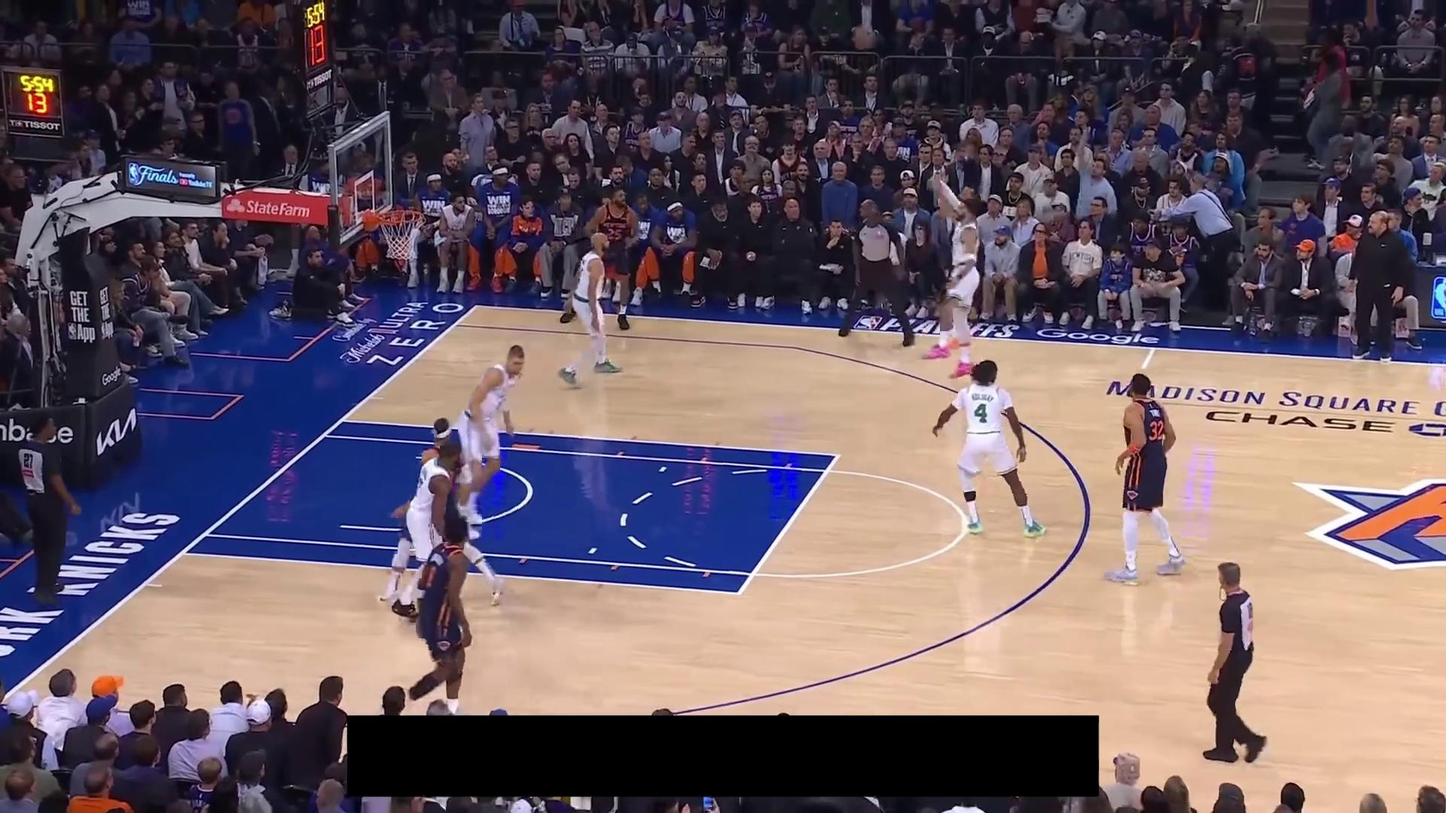ball: (852, 26, 877, 50)
number: (1148, 419, 1164, 441), (974, 402, 989, 424), (608, 227, 623, 241)
player: (378, 417, 507, 606), (931, 358, 1048, 539), (1103, 373, 1187, 586), (396, 516, 473, 714), (458, 343, 529, 539), (391, 441, 459, 621), (558, 186, 642, 331), (557, 228, 623, 389)
player-jump-shot: (926, 167, 980, 350)
player-shot-block: (921, 173, 981, 380)
referee: (1201, 561, 1268, 764), (17, 413, 81, 608), (838, 199, 915, 347)
rim: (377, 209, 426, 224)
